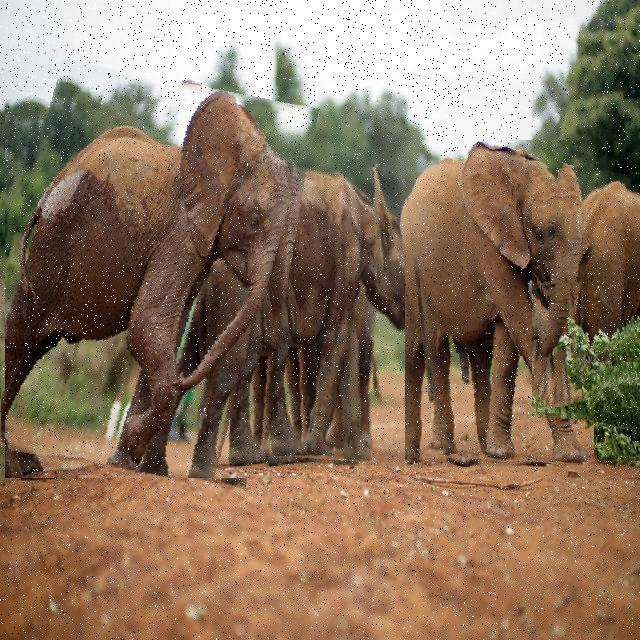elephant: (5, 70, 301, 478), (399, 140, 594, 467), (216, 167, 405, 466), (532, 168, 640, 421), (540, 282, 586, 407)
